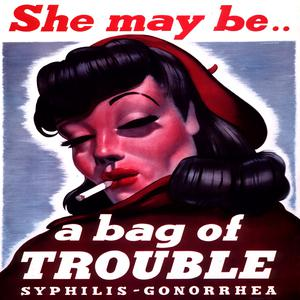cigarette: (74, 179, 114, 202)
